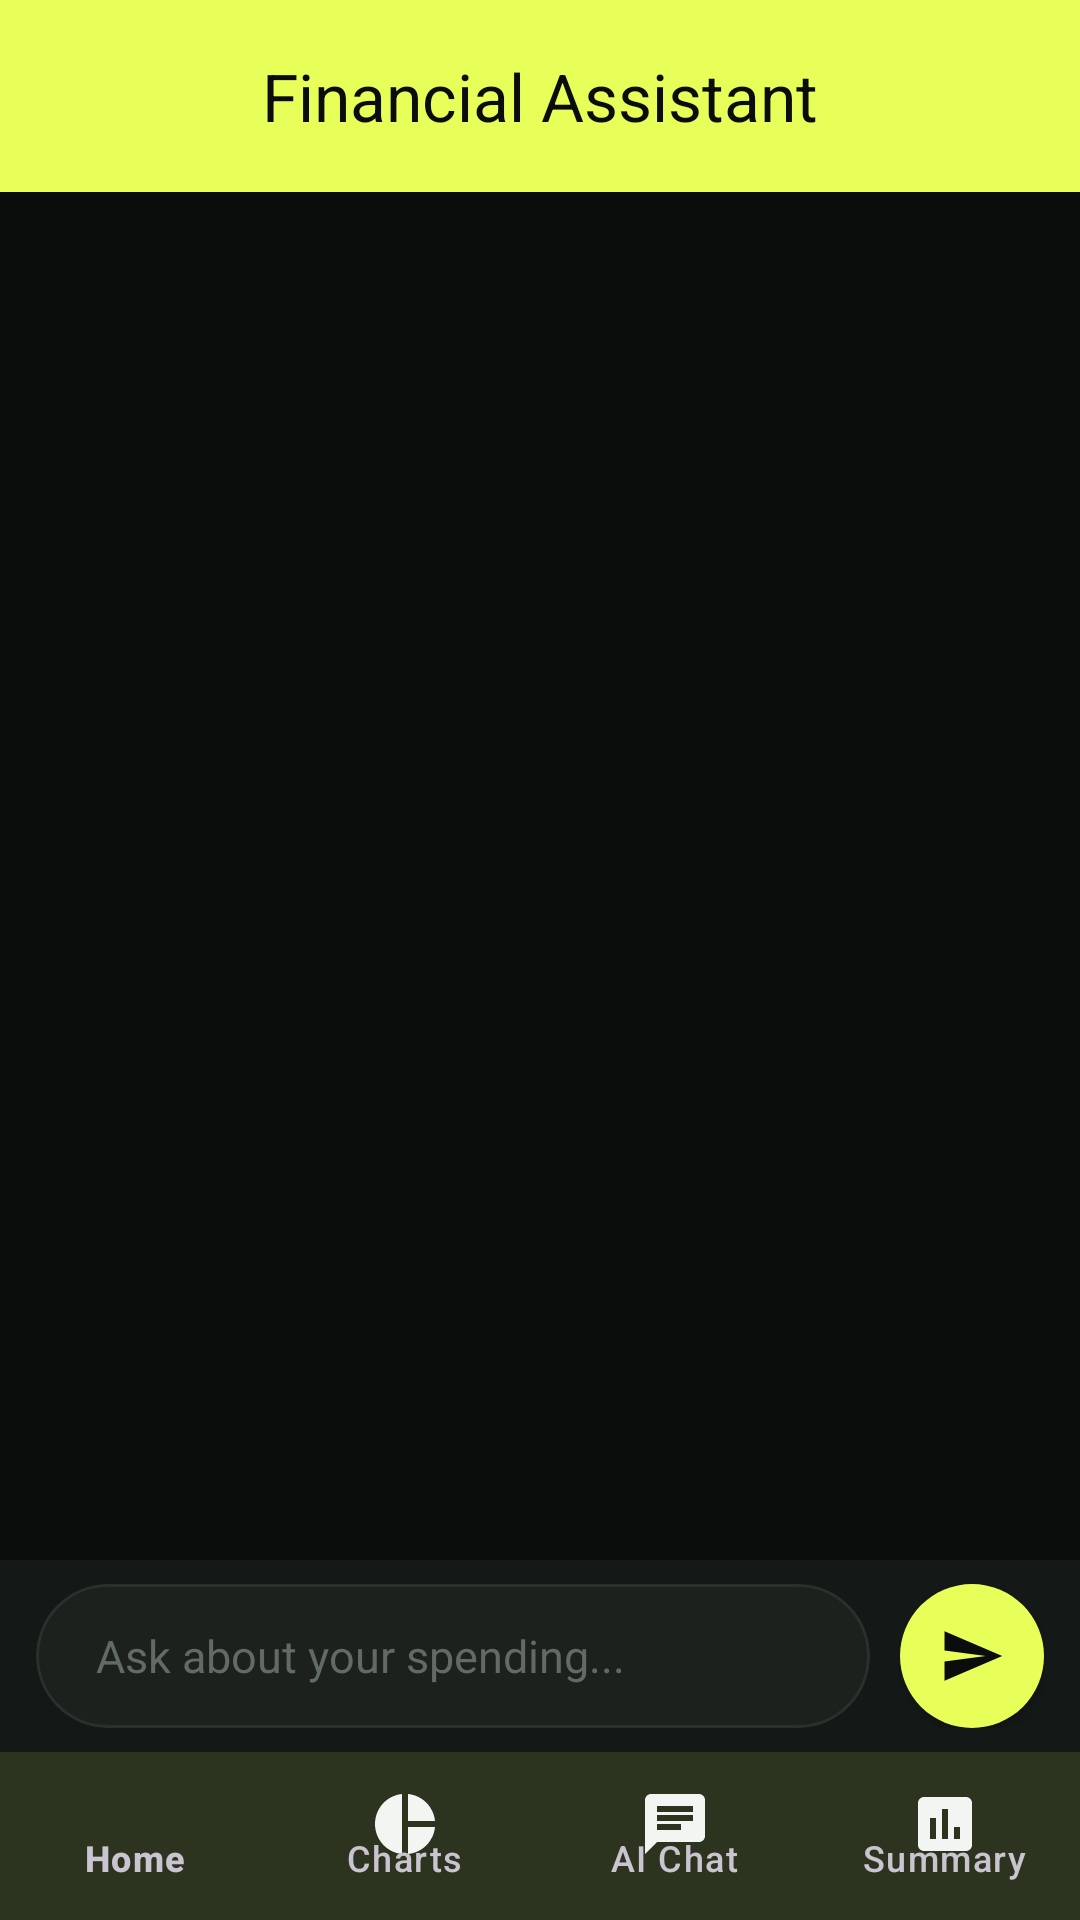

Named icons in this screenshot (1080×1920) and their bounding boxes, (x1, y1, x2, y2):
send: (900, 1584, 1044, 1728)
